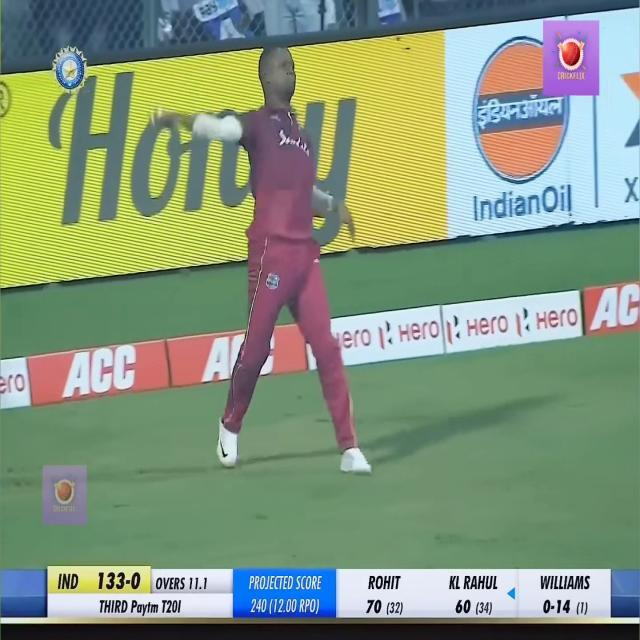fully_visible: (123, 596, 161, 619)
